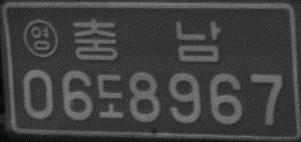0: (21, 67, 54, 120)
6: (208, 72, 244, 126), (61, 69, 94, 122)
7: (249, 73, 284, 125)
8: (128, 70, 161, 124)
9: (167, 72, 202, 123)
도: (96, 73, 124, 119)
영: (22, 18, 58, 58)
충남_D: (70, 16, 221, 62)
